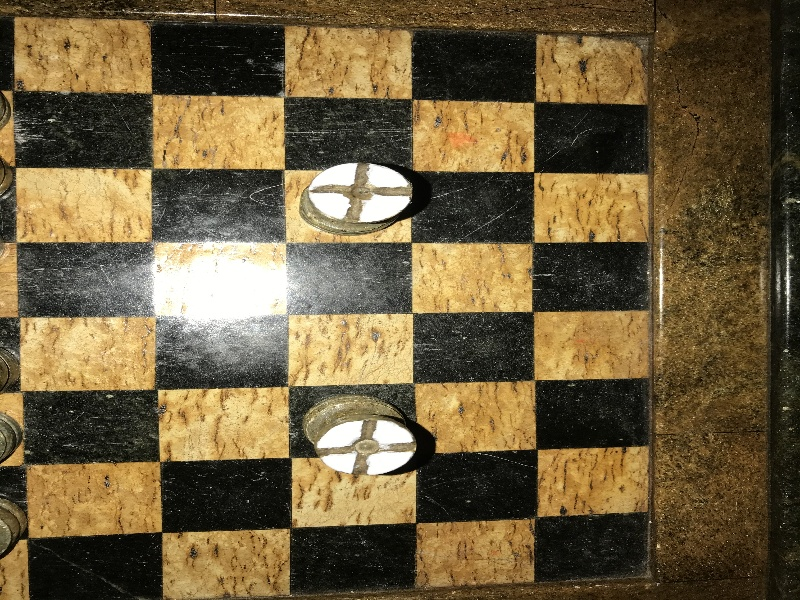WhiteBishop: (302, 394, 416, 476), (300, 161, 411, 235)
